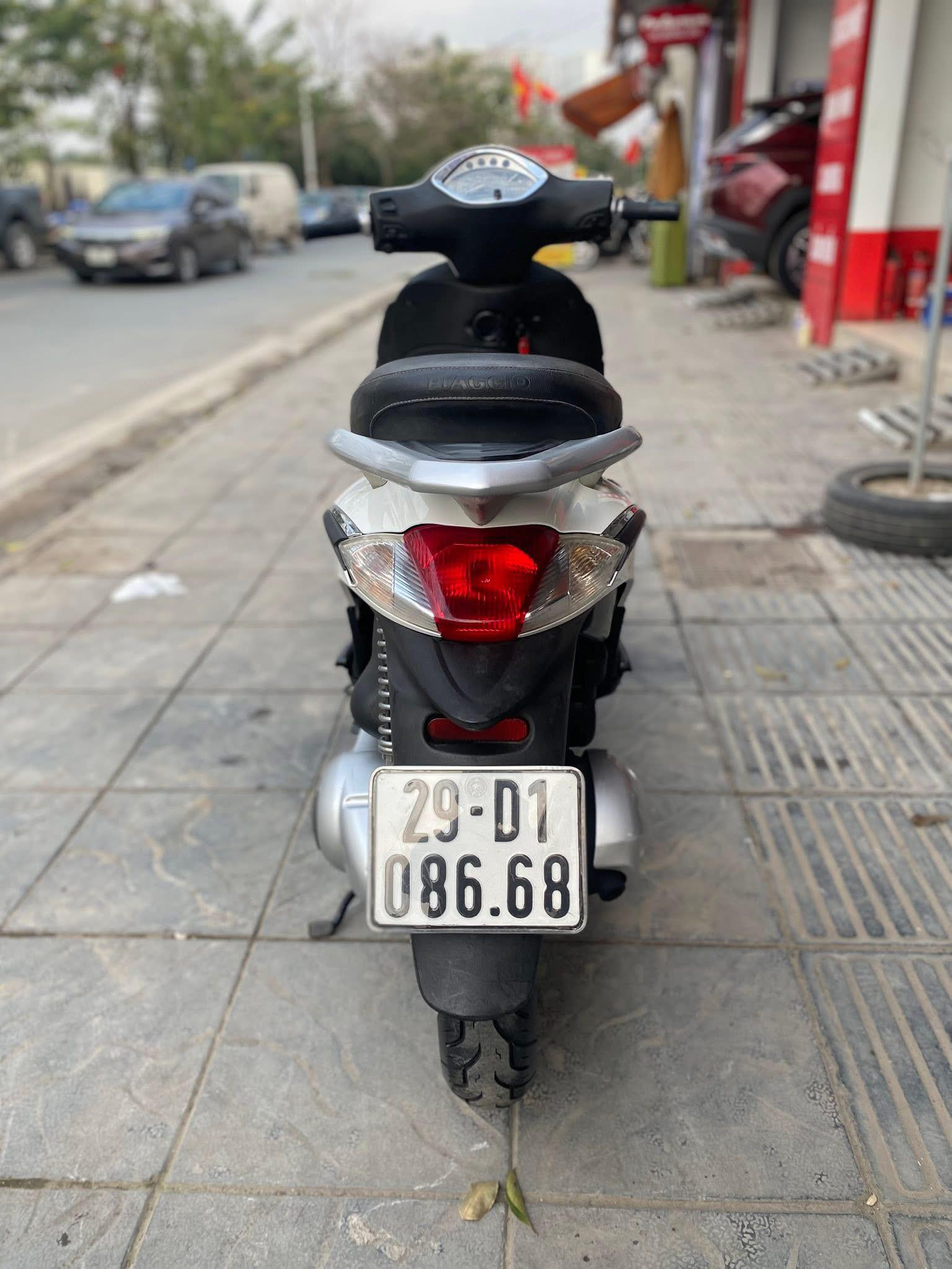bien_so: (360, 753, 596, 948)
